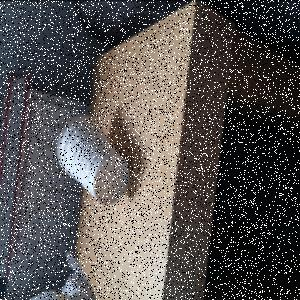Cup: (58, 113, 132, 207)
